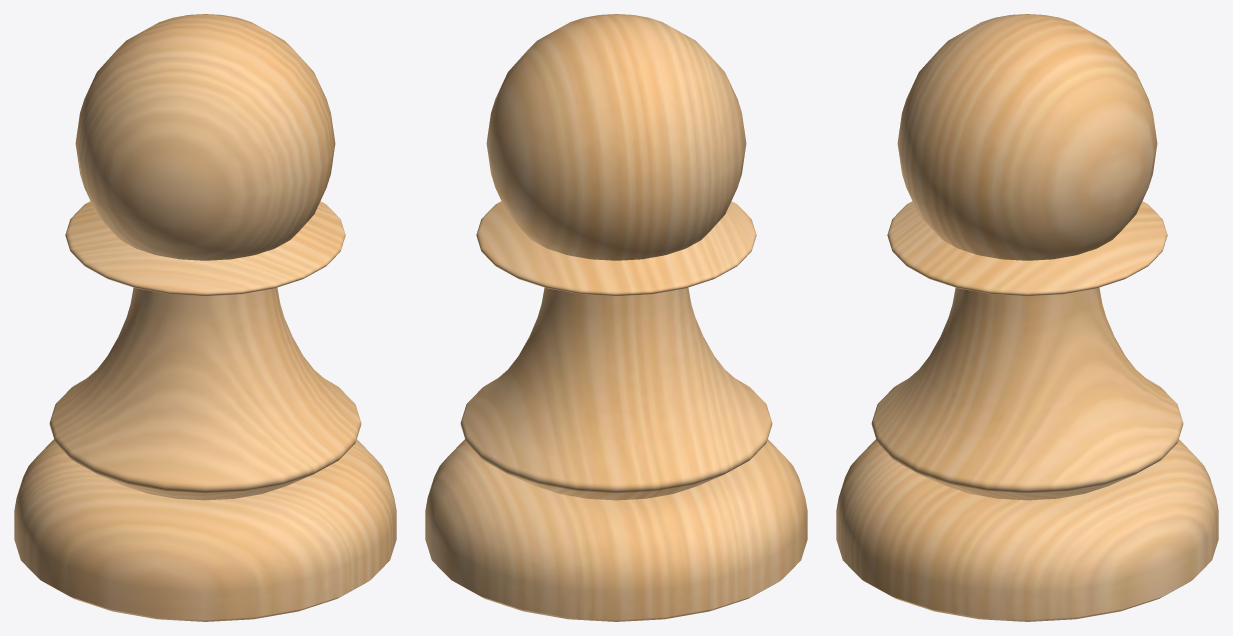
The model's file is white_pawn.gltf.
The picture shows the model from 3 angles, left to right: view 1: azimuth 30°, elevation 25°; view 2: azimuth 150°, elevation 25°; view 3: azimuth 270°, elevation 25°; orthographic projection.
Parts seen in each view (by area): view 1: Material2017; view 2: Material2017; view 3: Material2017.
Part boxes in pixels (x1,y1,x2,y2): Material2017: [14, 14, 396, 621]; Material2017: [425, 14, 807, 621]; Material2017: [836, 14, 1218, 621].
Size of the model in its own units: 0.1811 by 0.2705 by 0.1811.
Materials: 1 (1 with a texture image).
